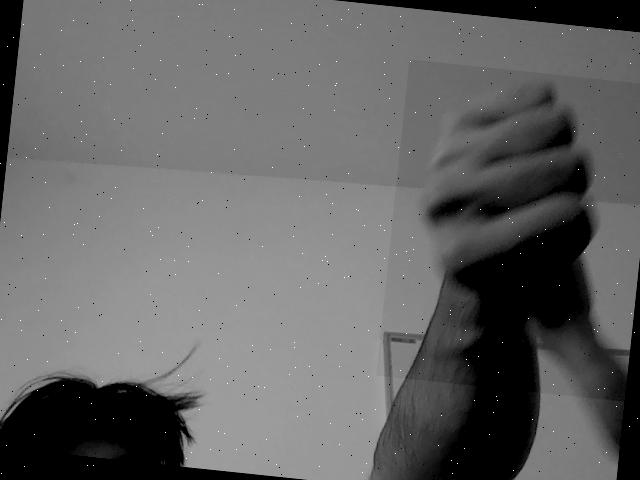bad: (376, 59, 640, 401)
